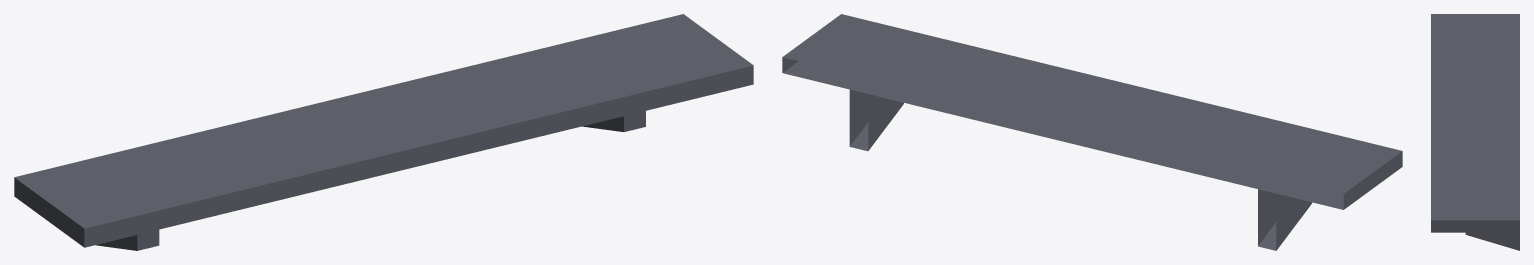
The model's file is Shelves_1C.fbx.
3 views of the same model, side by side, from view 1: azimuth 30°, elevation 25°; view 2: azimuth 150°, elevation 25°; view 3: azimuth 270°, elevation 25° (orthographic). The views are drawn at different scales.
Parts seen in each view (by area): view 1: polySurface1680; view 2: polySurface1680; view 3: polySurface1680.
Boxes of the visible parts, x1,y1,x2,y2 form: polySurface1680: [14, 14, 753, 250]; polySurface1680: [782, 14, 1402, 250]; polySurface1680: [1431, 14, 1519, 250].
Size of the model in its own units: 2.2 by 0.2748 by 0.4.
Materials: 1 (1 with a texture image).
